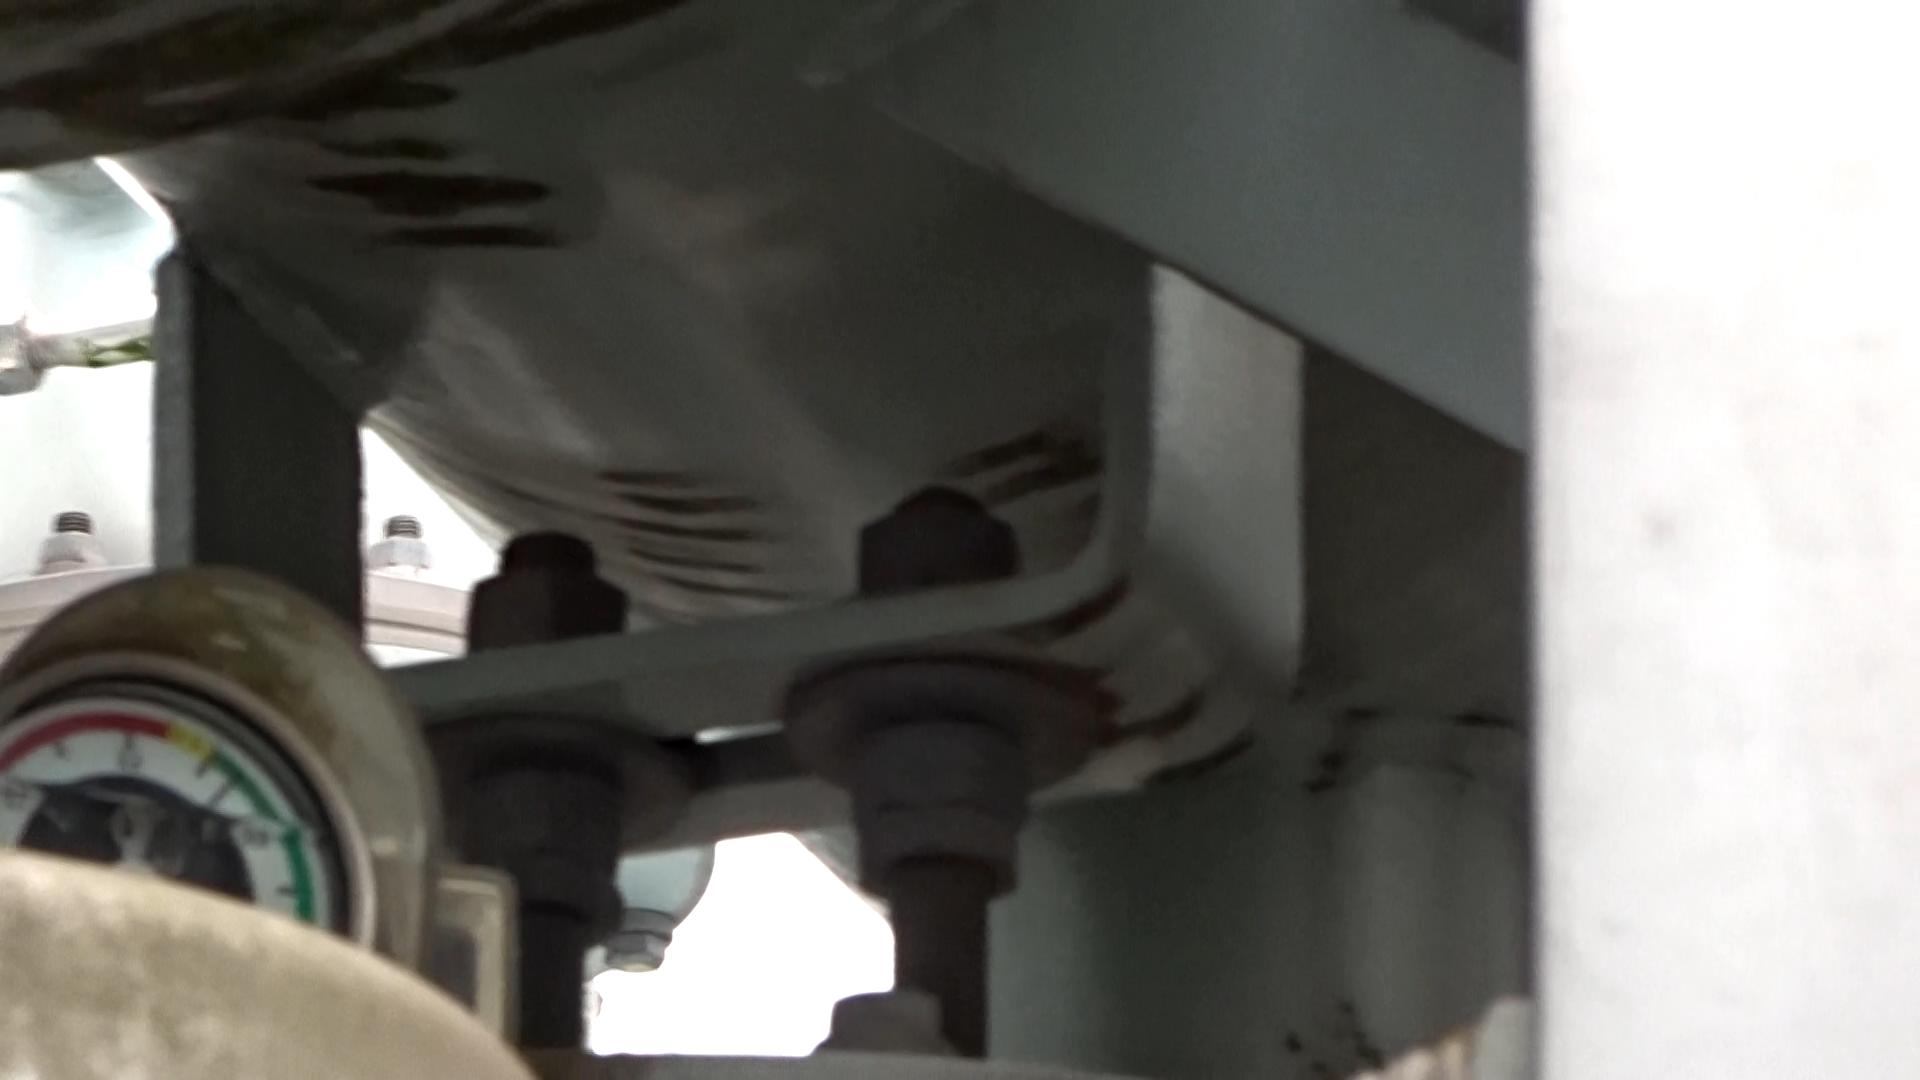instrument: (1, 669, 349, 944)
